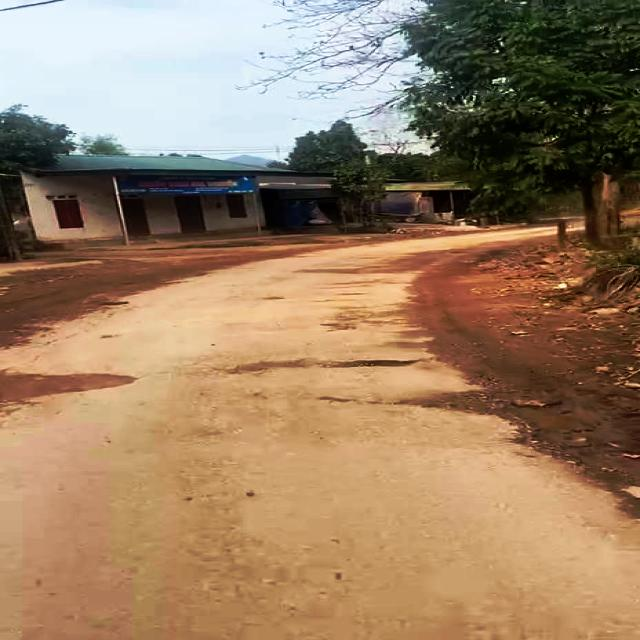pothole: (436, 386, 640, 472), (0, 369, 146, 403), (235, 356, 422, 374)
